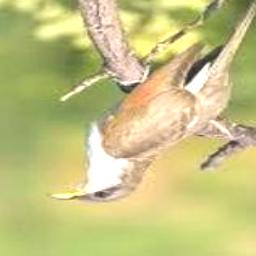Cuckoo: (49, 0, 256, 203)
